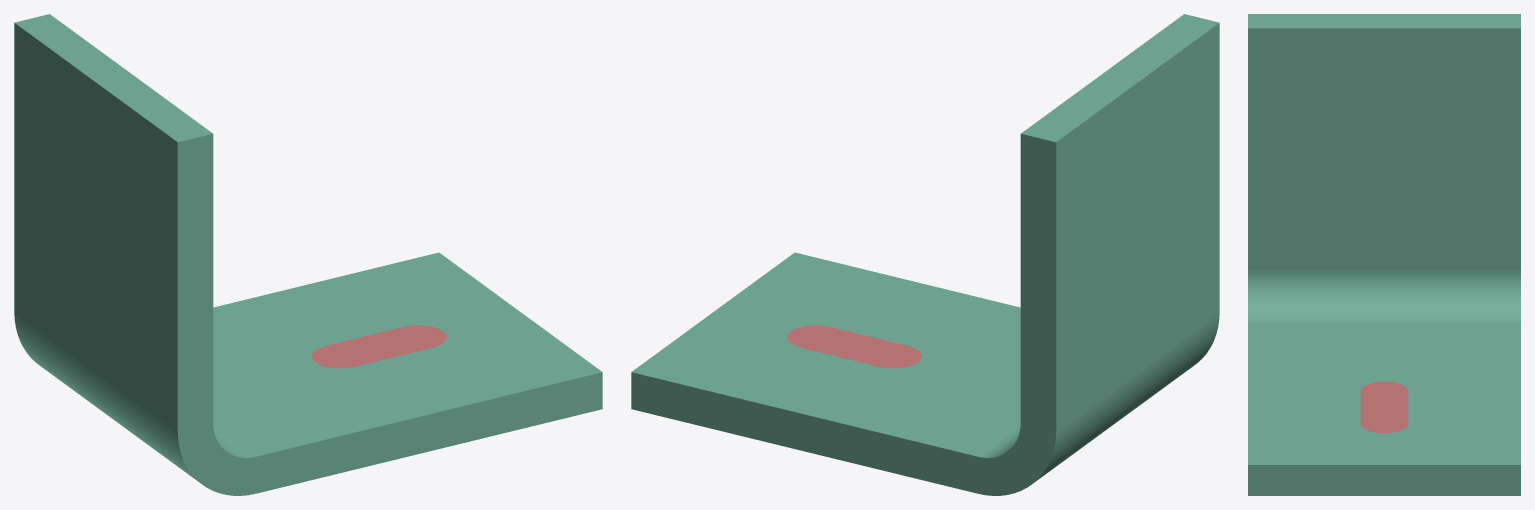
File: step_05.glb
3 renders of one model, left to right at view 1: azimuth 30°, elevation 25°; view 2: azimuth 150°, elevation 25°; view 3: azimuth 270°, elevation 25°, orthographic. The views are drawn at different scales.
Parts seen in each view (by area): view 1: part__L bracket, removed__L bracket; view 2: part__L bracket, removed__L bracket; view 3: part__L bracket, removed__L bracket.
Boxes of the visible parts, <box> form: part__L bracket: <box>14,14,602,495</box>; removed__L bracket: <box>311,325,446,368</box>; part__L bracket: <box>631,14,1219,495</box>; removed__L bracket: <box>787,325,922,368</box>; part__L bracket: <box>1248,14,1520,495</box>; removed__L bracket: <box>1360,381,1408,433</box>.
Size of the model in its own units: 60 by 50 by 40.
